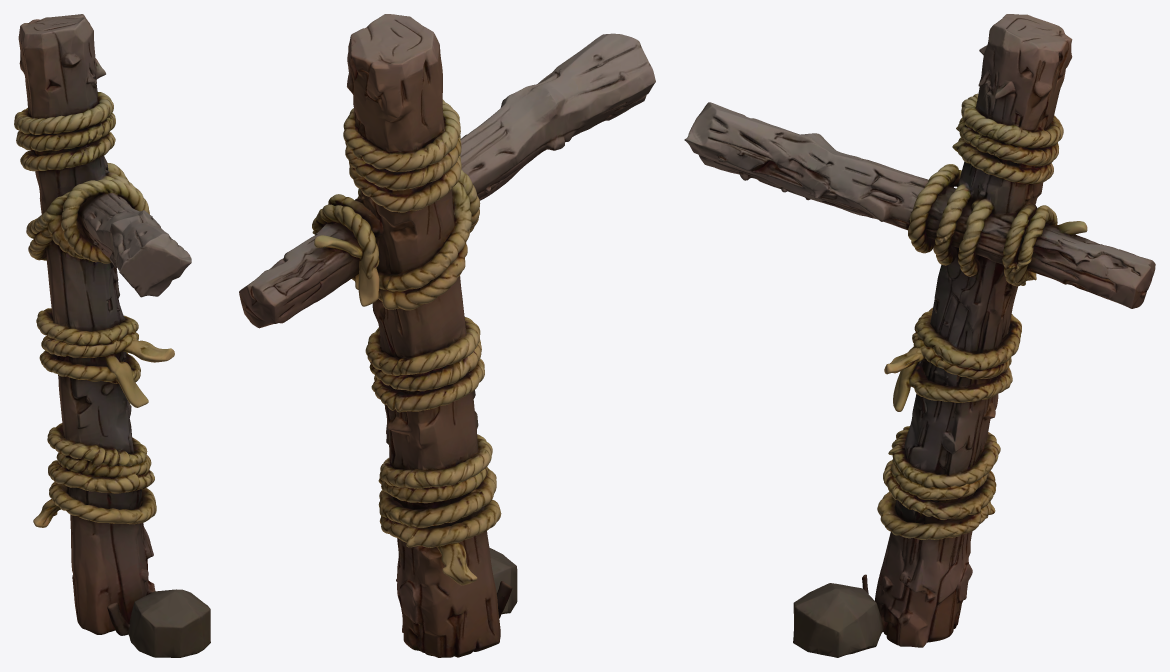
3 renders of one model, left to right at view 1: azimuth 30°, elevation 25°; view 2: azimuth 150°, elevation 25°; view 3: azimuth 270°, elevation 25°, orthographic. The views are drawn at different scales.
Visible parts, largest first — view 1: tripo_node_f9a23171-205b-4ec8-86fc-ebefc15439a8; view 2: tripo_node_f9a23171-205b-4ec8-86fc-ebefc15439a8; view 3: tripo_node_f9a23171-205b-4ec8-86fc-ebefc15439a8.
Boxes of the visible parts, box(x1,y1,x2,y2) form: tripo_node_f9a23171-205b-4ec8-86fc-ebefc15439a8: box(14, 14, 210, 657); tripo_node_f9a23171-205b-4ec8-86fc-ebefc15439a8: box(239, 14, 655, 657); tripo_node_f9a23171-205b-4ec8-86fc-ebefc15439a8: box(684, 14, 1155, 657).
Bounding box in the file's own units: 0.302 × 1 × 0.7035.
1 material, 1 textured.
